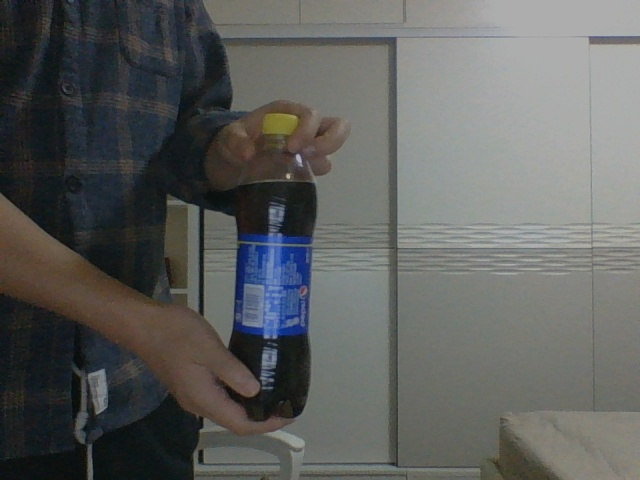Cola: (228, 114, 318, 417)
